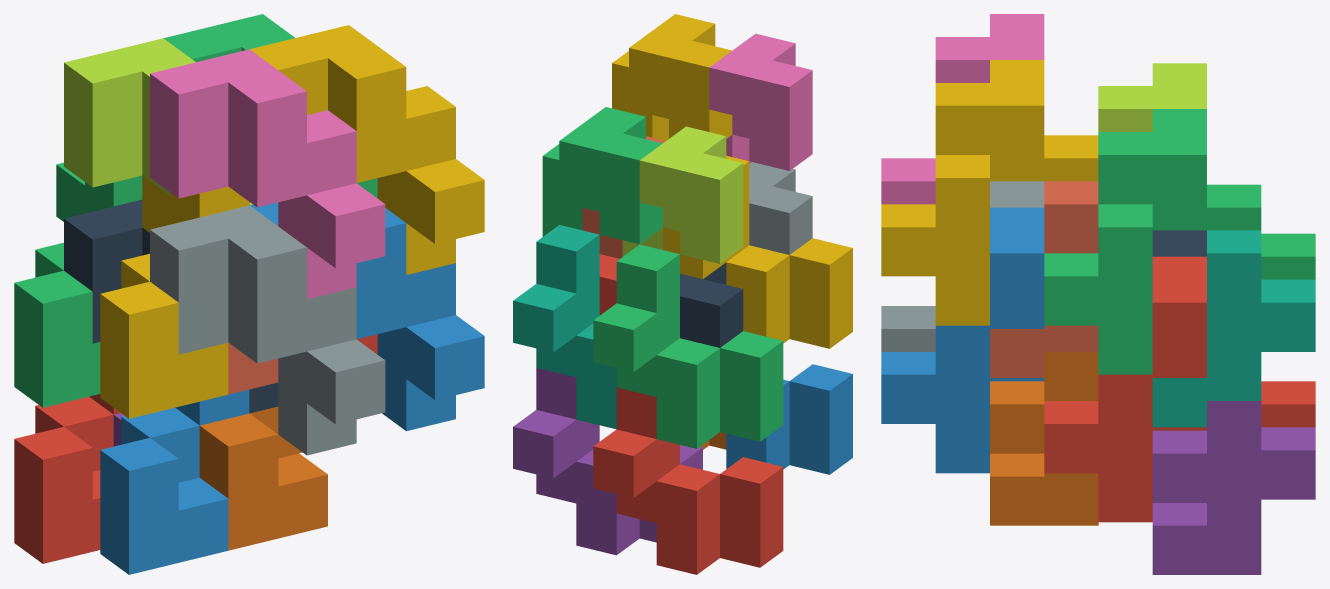
The model's file is tiling.obj.
The picture shows the model from 3 angles, left to right: view 1: azimuth 30°, elevation 25°; view 2: azimuth 150°, elevation 25°; view 3: azimuth 270°, elevation 25°; orthographic projection. The views are drawn at different scales.
Visible parts, largest first — view 1: copy_2_domain_4, copy_2_domain_2, copy_2_domain_8, copy_1_domain_2, copy_2_domain_6, copy_1_domain_4, copy_1_domain_3, copy_1_domain_1, copy_1_domain_6, copy_2_domain_3, copy_2_domain_1, copy_2_domain_7 (+1 smaller); view 2: copy_1_domain_3, copy_1_domain_1, copy_1_domain_4, copy_1_domain_7, copy_1_domain_5, copy_2_domain_7, copy_2_domain_4, copy_2_domain_3, copy_2_domain_8, copy_1_domain_2, copy_2_domain_2, copy_2_domain_1 (+2 smaller); view 3: copy_2_domain_8, copy_2_domain_7, copy_1_domain_5, copy_2_domain_5, copy_2_domain_6, copy_1_domain_7, copy_1_domain_6, copy_1_domain_8, copy_2_domain_4, copy_1_domain_3, copy_2_domain_3, copy_2_domain_2 (+3 smaller).
Boxes of the visible parts, x1=… form: copy_2_domain_4: x1=150, y1=49, x2=385, y2=299; copy_2_domain_2: x1=150, y1=205, x2=385, y2=455; copy_2_domain_8: x1=250, y1=25, x2=484, y2=274; copy_1_domain_2: x1=100, y1=389, x2=249, y2=574; copy_2_domain_6: x1=250, y1=202, x2=484, y2=430; copy_1_domain_4: x1=100, y1=175, x2=249, y2=418; copy_1_domain_3: x1=14, y1=162, x2=142, y2=407; copy_1_domain_1: x1=14, y1=394, x2=120, y2=563; copy_1_domain_6: x1=199, y1=406, x2=327, y2=550; copy_2_domain_3: x1=64, y1=38, x2=252, y2=204; copy_2_domain_1: x1=64, y1=199, x2=278, y2=413; copy_2_domain_7: x1=163, y1=14, x2=377, y2=198; copy_1_domain_3: x1=593, y1=244, x2=783, y2=448; copy_1_domain_1: x1=593, y1=387, x2=783, y2=574; copy_1_domain_4: x1=663, y1=155, x2=852, y2=348; copy_1_domain_7: x1=513, y1=225, x2=616, y2=429; copy_1_domain_5: x1=513, y1=368, x2=702, y2=555; copy_2_domain_7: x1=542, y1=107, x2=662, y2=244; copy_2_domain_4: x1=709, y1=33, x2=812, y2=170; copy_2_domain_3: x1=622, y1=126, x2=743, y2=263; copy_2_domain_8: x1=612, y1=14, x2=732, y2=140; copy_1_domain_2: x1=726, y1=364, x2=852, y2=474; copy_2_domain_2: x1=749, y1=162, x2=812, y2=254; copy_2_domain_1: x1=680, y1=262, x2=743, y2=347; copy_2_domain_8: x1=881, y1=60, x2=1044, y2=325; copy_2_domain_7: x1=1044, y1=109, x2=1206, y2=374; copy_1_domain_5: x1=1152, y1=401, x2=1315, y2=574; copy_2_domain_5: x1=1044, y1=256, x2=1206, y2=522; copy_2_domain_6: x1=881, y1=207, x2=1044, y2=473; copy_1_domain_7: x1=1152, y1=230, x2=1315, y2=427; copy_1_domain_6: x1=990, y1=352, x2=1098, y2=525; copy_1_domain_8: x1=990, y1=181, x2=1098, y2=377; copy_2_domain_4: x1=881, y1=14, x2=1044, y2=204; copy_1_domain_3: x1=1207, y1=184, x2=1315, y2=279; copy_2_domain_3: x1=1098, y1=63, x2=1206, y2=131; copy_2_domain_2: x1=881, y1=181, x2=1044, y2=351.
Size of the model in its own units: 6 by 10 by 8.
